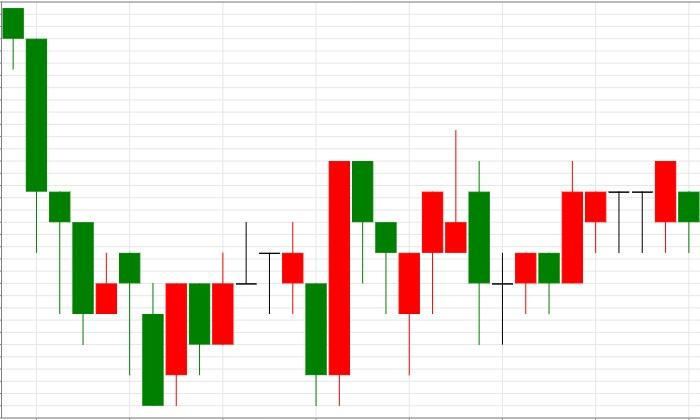morning_star_rise: (446, 130, 537, 346)
